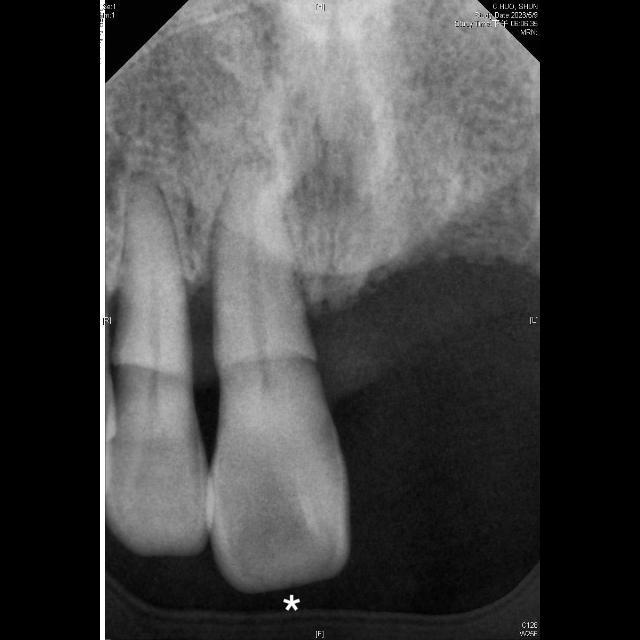test-segment: (209, 176, 349, 593)
